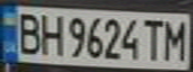2: (103, 15, 124, 61)
4: (121, 15, 142, 62)
6: (84, 13, 106, 60)
9: (63, 12, 87, 57)
B: (12, 9, 45, 55)
H: (36, 10, 66, 56)
M: (160, 16, 193, 62)
T: (139, 16, 166, 62)
